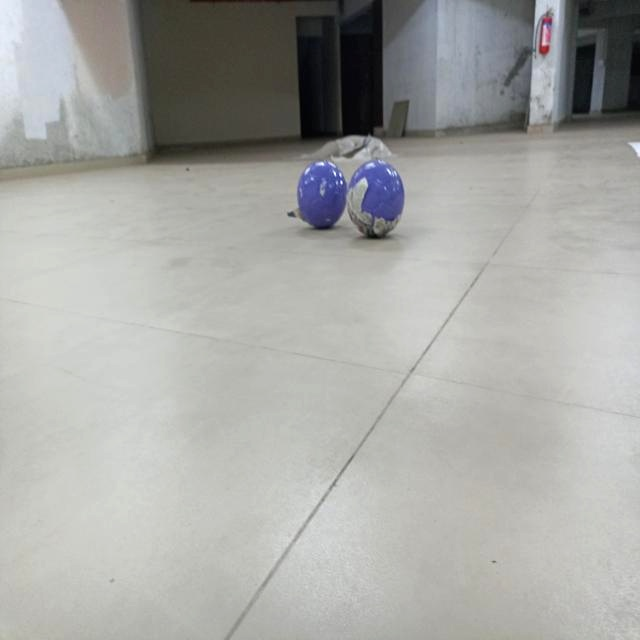purple_ball: (343, 157, 411, 238), (292, 153, 350, 232)
